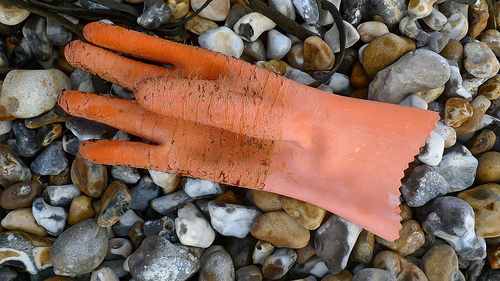litter: (56, 20, 439, 244)
